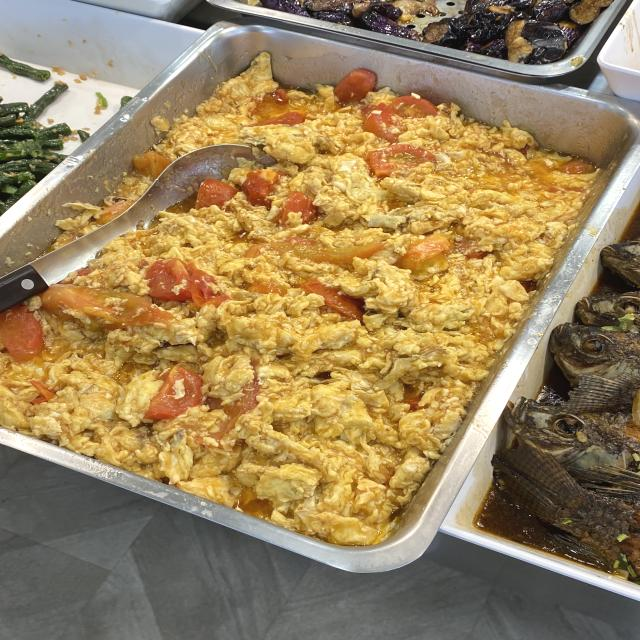Scramble Egg with Tomatoes: (126, 238, 432, 450)
